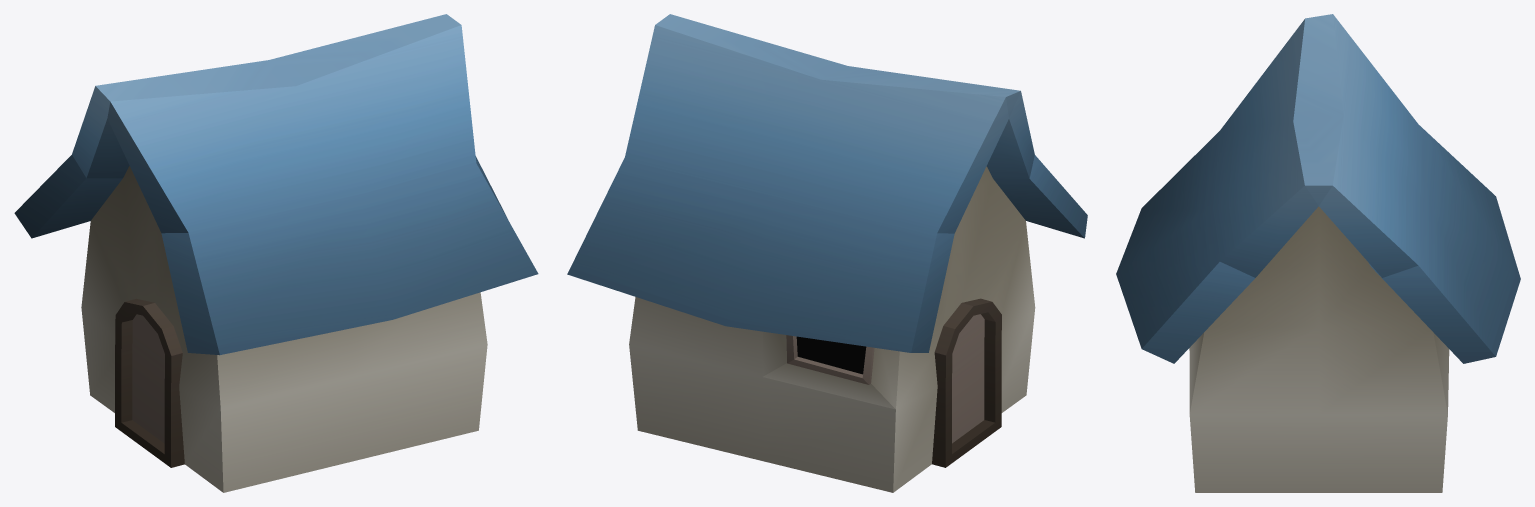
The model's file is house01_mdl.FBX.
The picture shows the model from 3 angles, left to right: view 1: azimuth 30°, elevation 25°; view 2: azimuth 150°, elevation 25°; view 3: azimuth 270°, elevation 25°; orthographic projection. The views are drawn at different scales.
Visible parts, largest first — view 1: house1; view 2: house1; view 3: house1.
Boxes of the visible parts, <box> form: house1: <box>14,14,538,492</box>; house1: <box>567,14,1087,492</box>; house1: <box>1116,14,1520,492</box>.
Bounding box in the file's own units: 4.02 × 3.99 × 4.31.
1 material, 1 textured.
